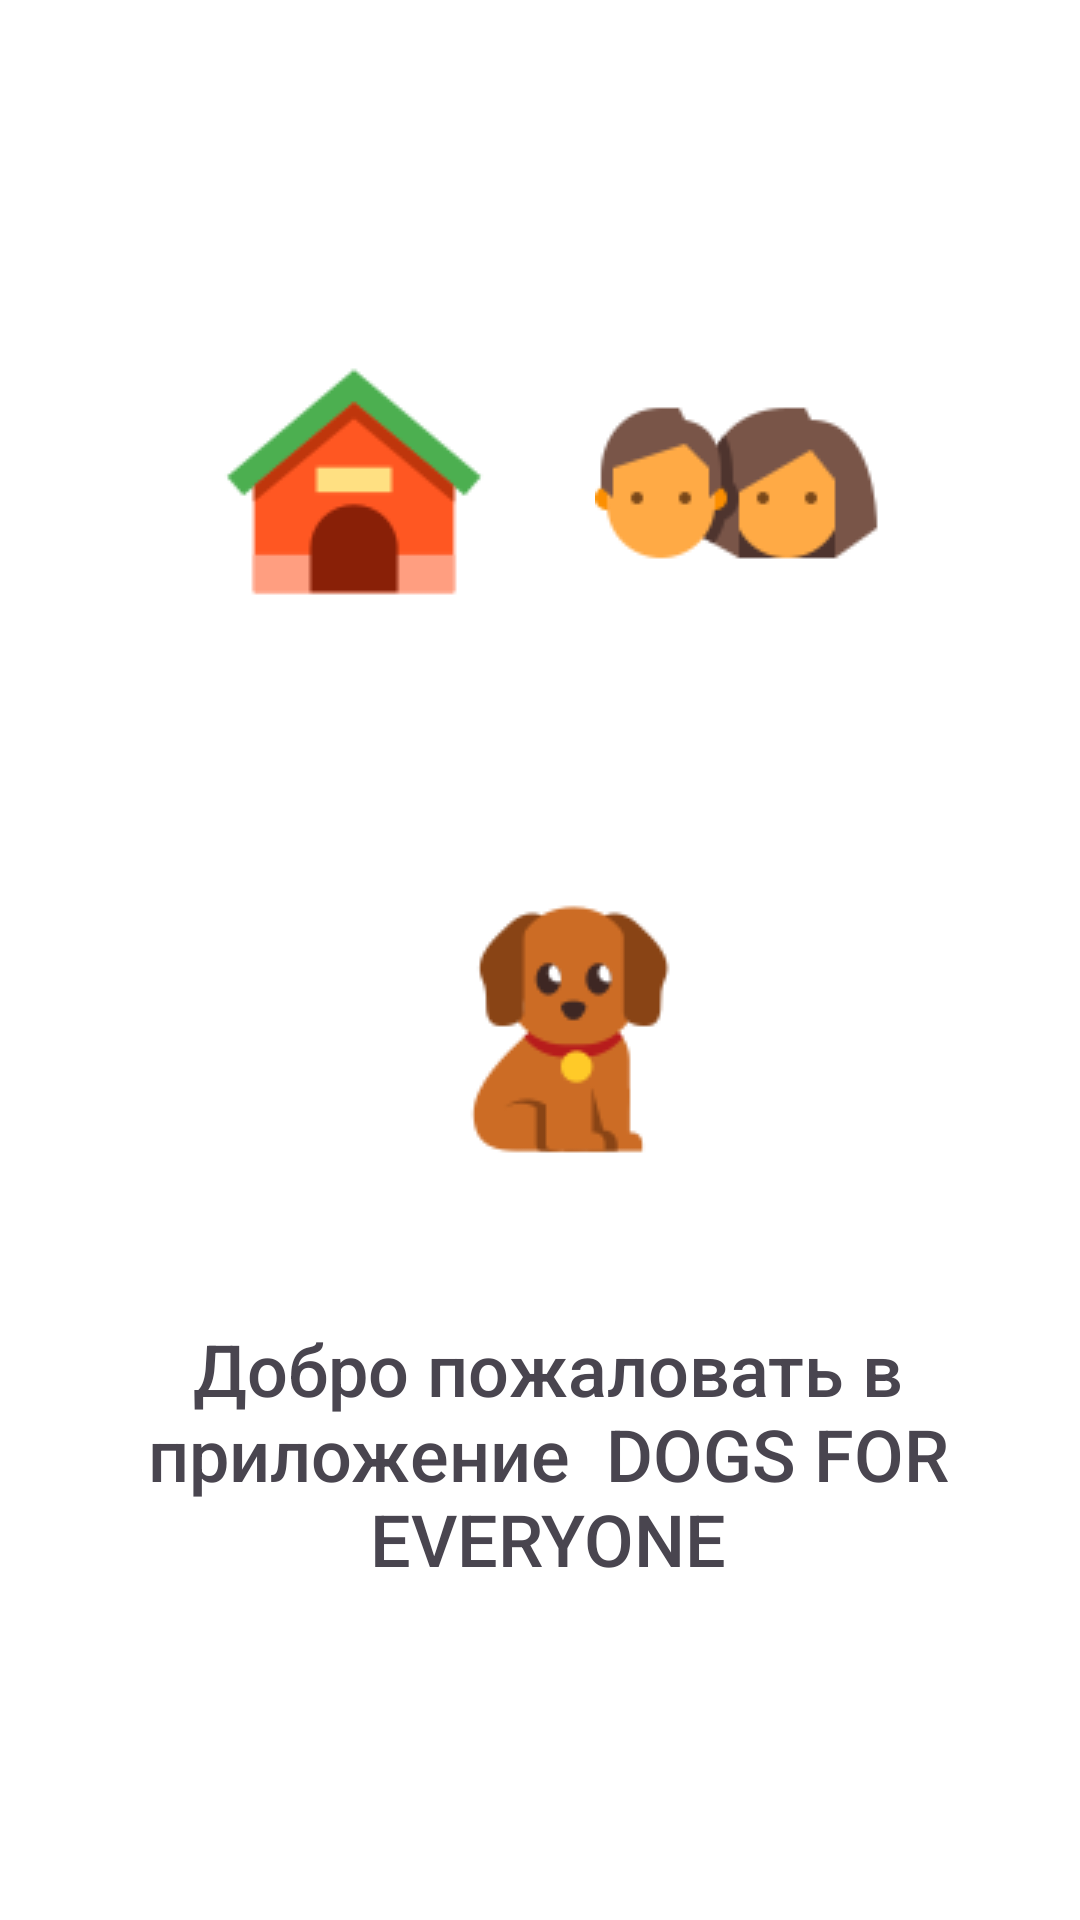

Where to tap for icons on this 1080w x 1920h app screen, as [x,y]:
dog: [571,1029]
house: [354,482]
peple: [736,483]
